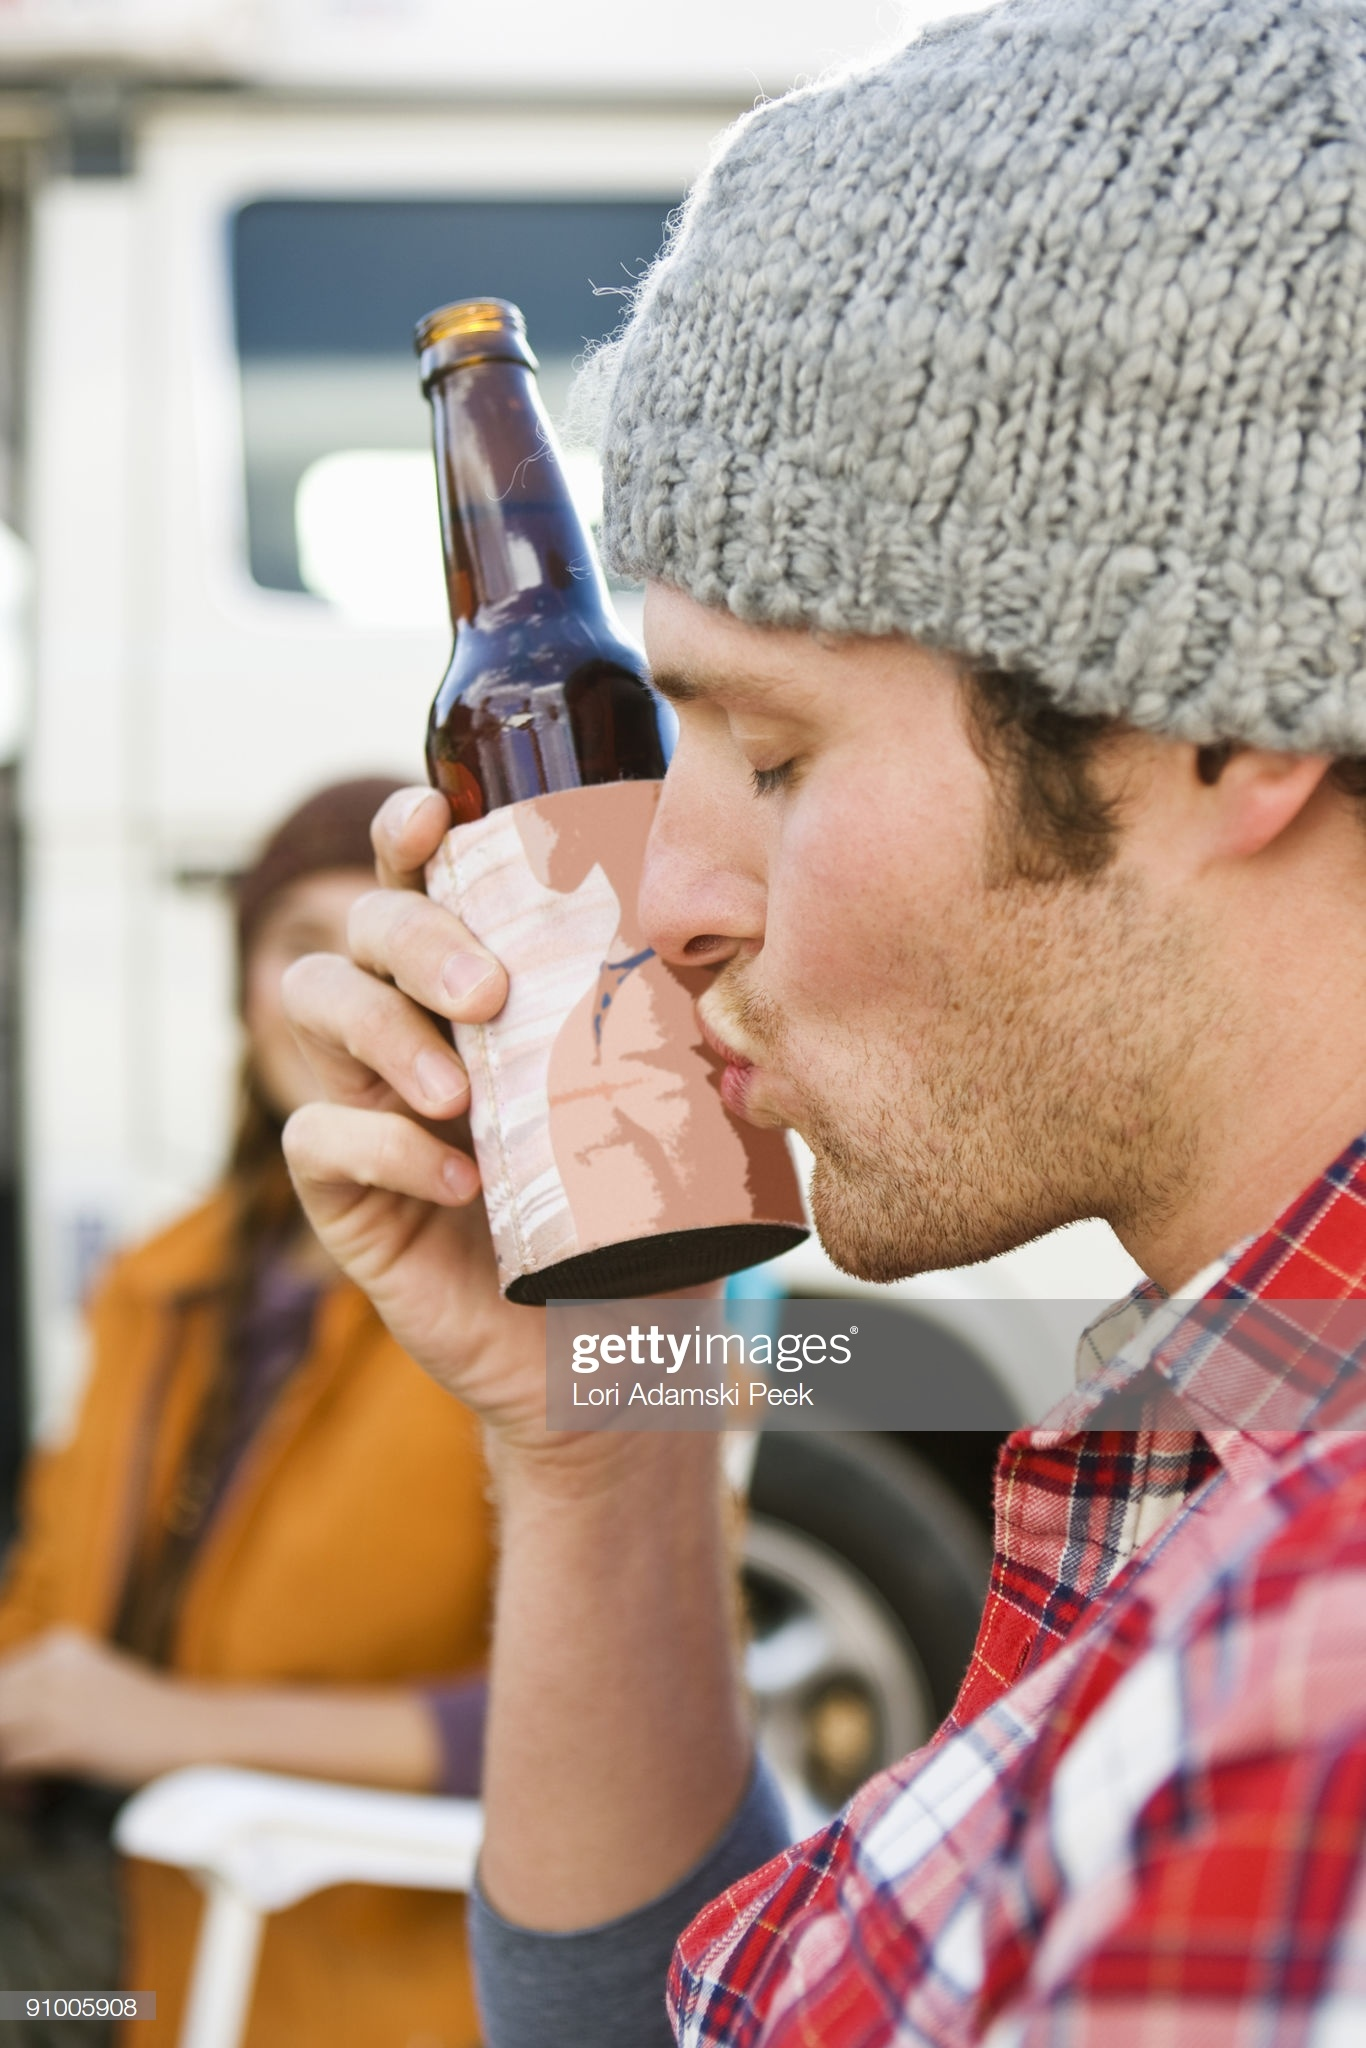beerBottle: (372, 293, 825, 1266)
